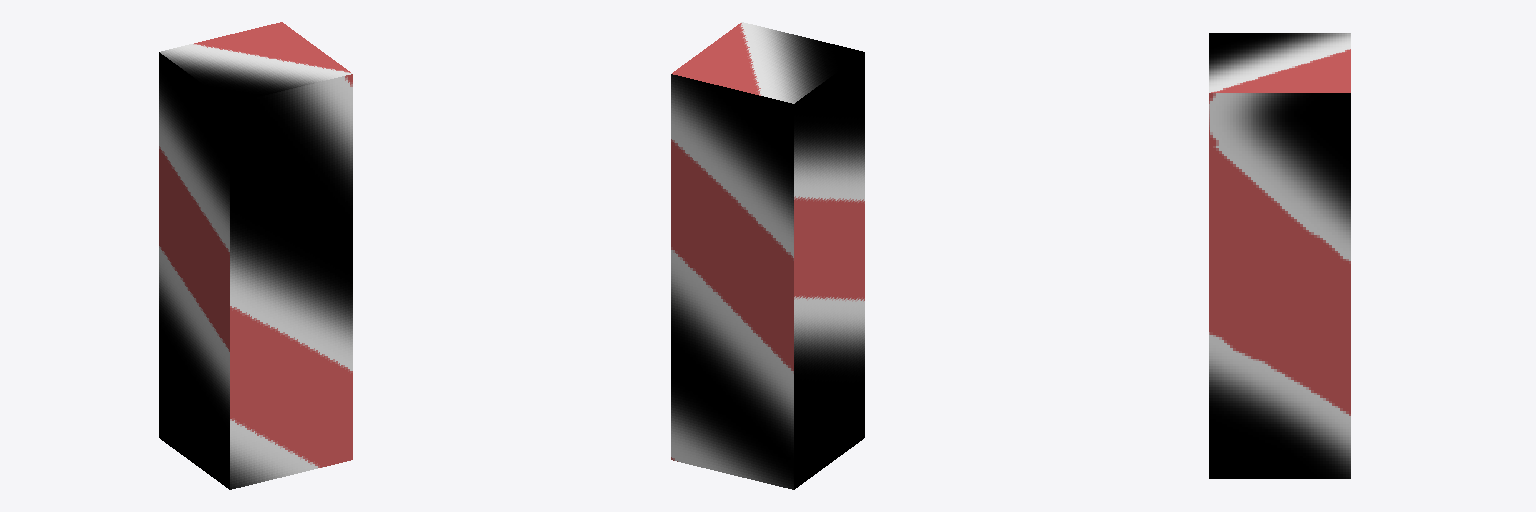
3 renders of one model, left to right at view 1: azimuth 30°, elevation 25°; view 2: azimuth 150°, elevation 25°; view 3: azimuth 270°, elevation 25°, orthographic.
Parts seen in each view (by area): view 1: 右上腕; view 2: 右上腕; view 3: 右上腕.
Boxes of the visible parts, <box> form: 右上腕: <box>159,22,352,489</box>; 右上腕: <box>671,22,864,489</box>; 右上腕: <box>1209,33,1350,478</box>.
Bounding box in the file's own units: 3 × 9 × 3.
Materials: 1 (1 with a texture image).